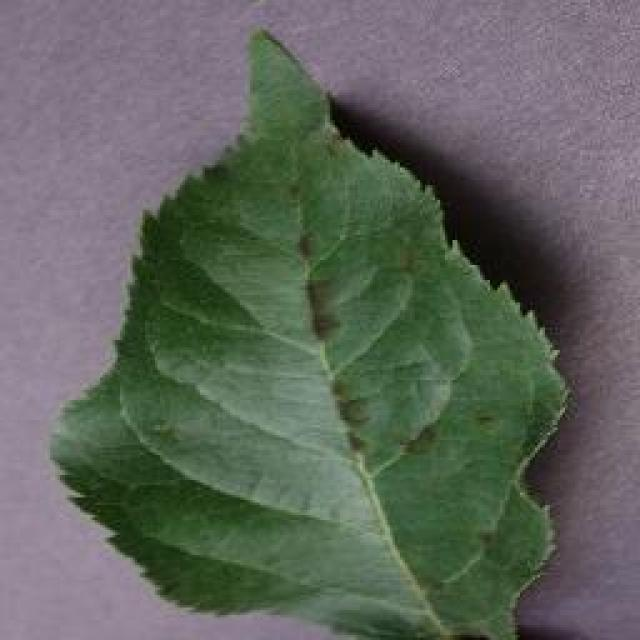apple scab disease: (48, 25, 578, 637)
